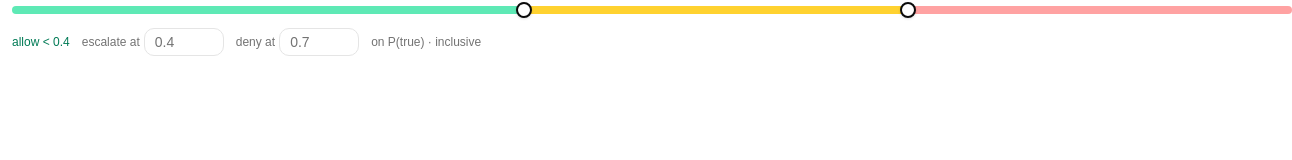
Scenario: escalate threshold cannot be set above deny via input
Replace the text in the number field labelled "escalate at" with "0.9": (184,42) left=144, top=28, right=224, bottom=56
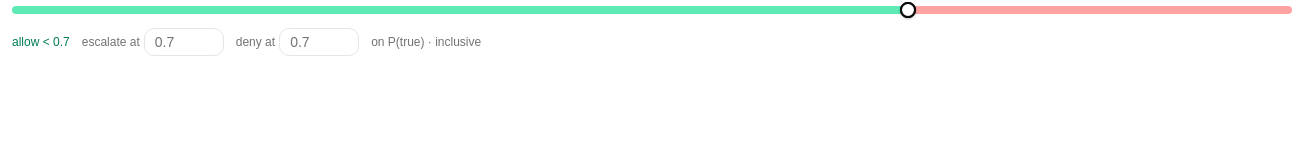
Expected: the number field labelled "escalate at" holds "0.7", left=144, top=28, right=224, bottom=56
